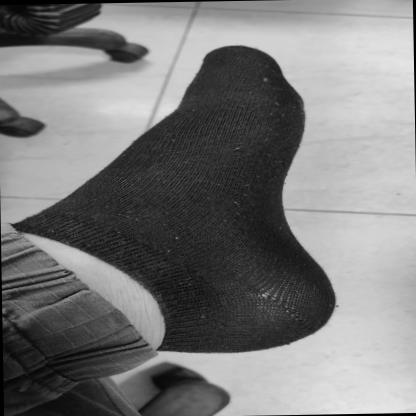ankle: (124, 287, 131, 292)
heel: (229, 348, 237, 351)
left_foot: (8, 43, 339, 357)
pinky: (185, 95, 191, 97)
toe: (236, 47, 242, 49)
